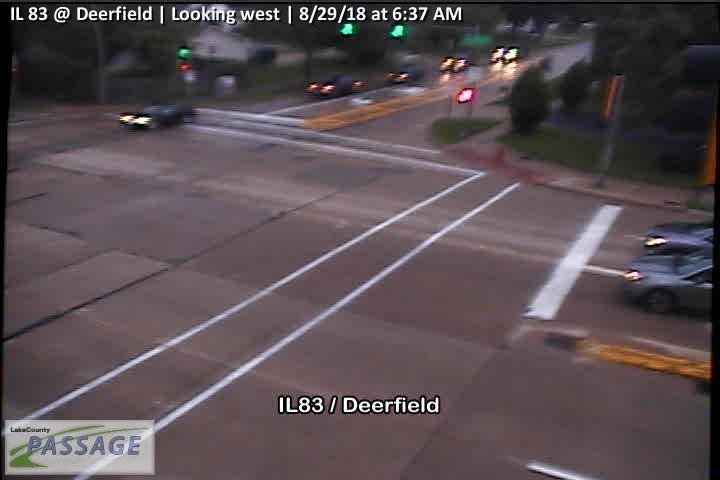Sedan: (622, 255, 714, 317), (643, 222, 715, 257), (118, 103, 195, 131), (303, 74, 366, 99)
